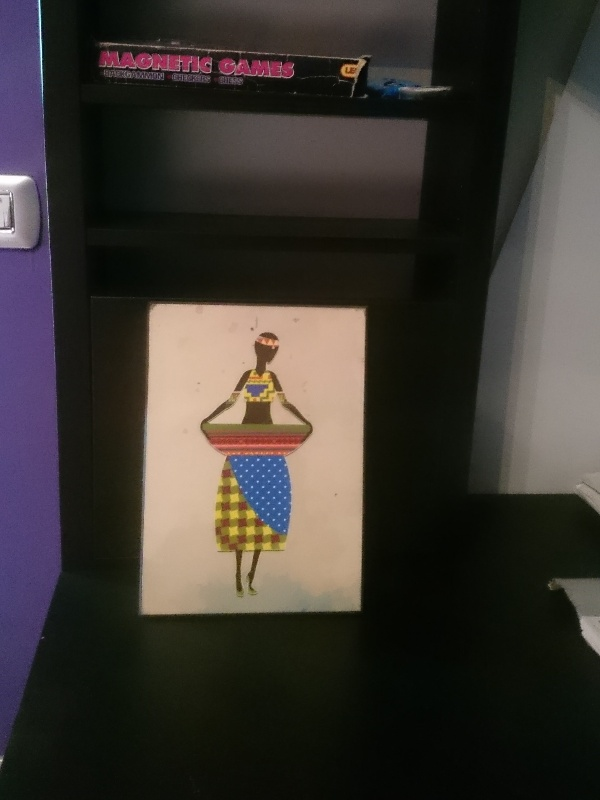my image: (141, 306, 367, 613)
